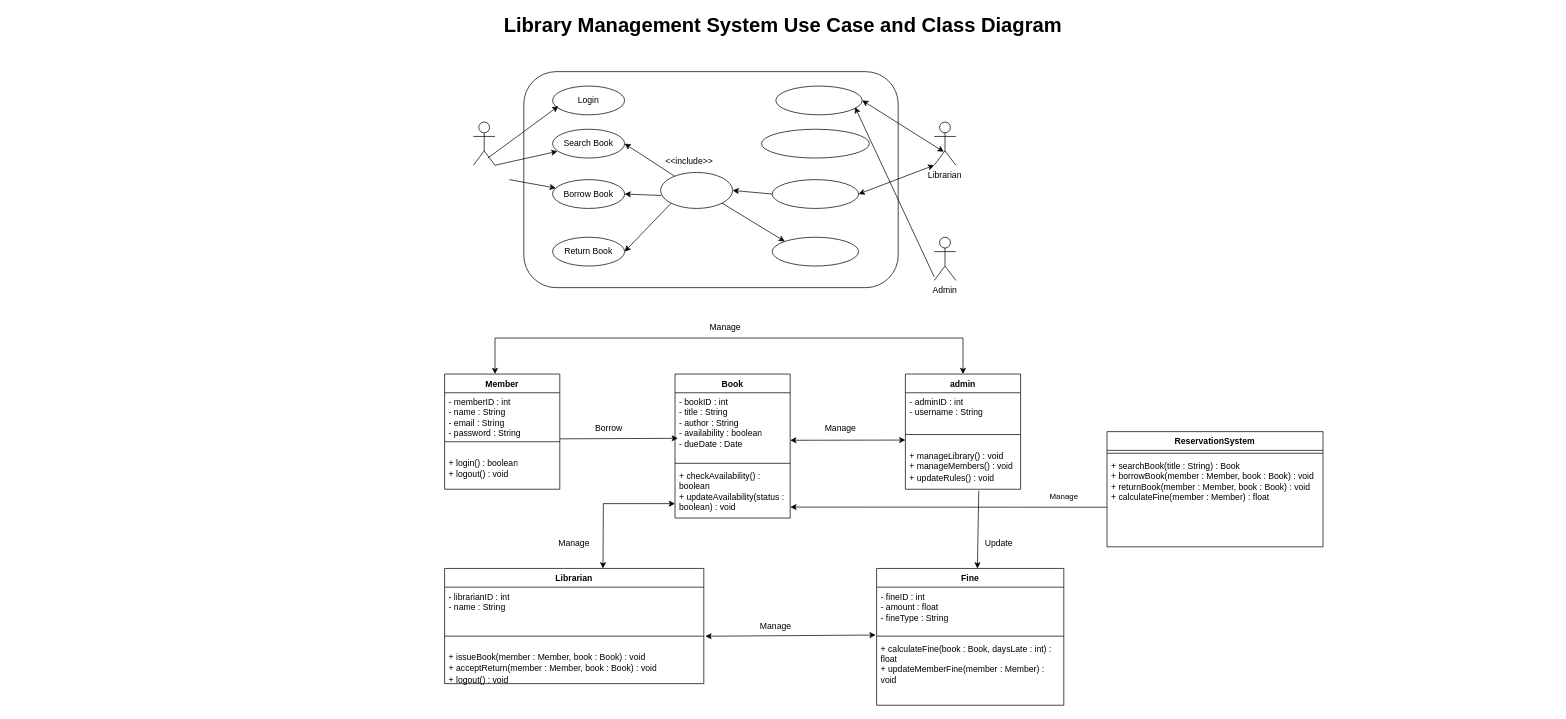
Image size: 1566x719. Some labels were removed from this diagram. Each missing label, with the centre of its shape:
Manage Fee Rules: (815,193)
Manage Library: (818,100)
Manage Library Resources: (815,143)
Manage Members: (815,251)
Pay Fine: (696,190)
Student/Faculty: (484,143)
